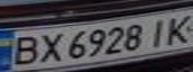2: (103, 24, 130, 56)
6: (63, 28, 90, 61)
8: (124, 20, 151, 52)
9: (84, 26, 109, 60)
B: (3, 33, 45, 67)
I: (142, 16, 172, 47)
K: (160, 11, 193, 44)
X: (33, 29, 66, 64)
